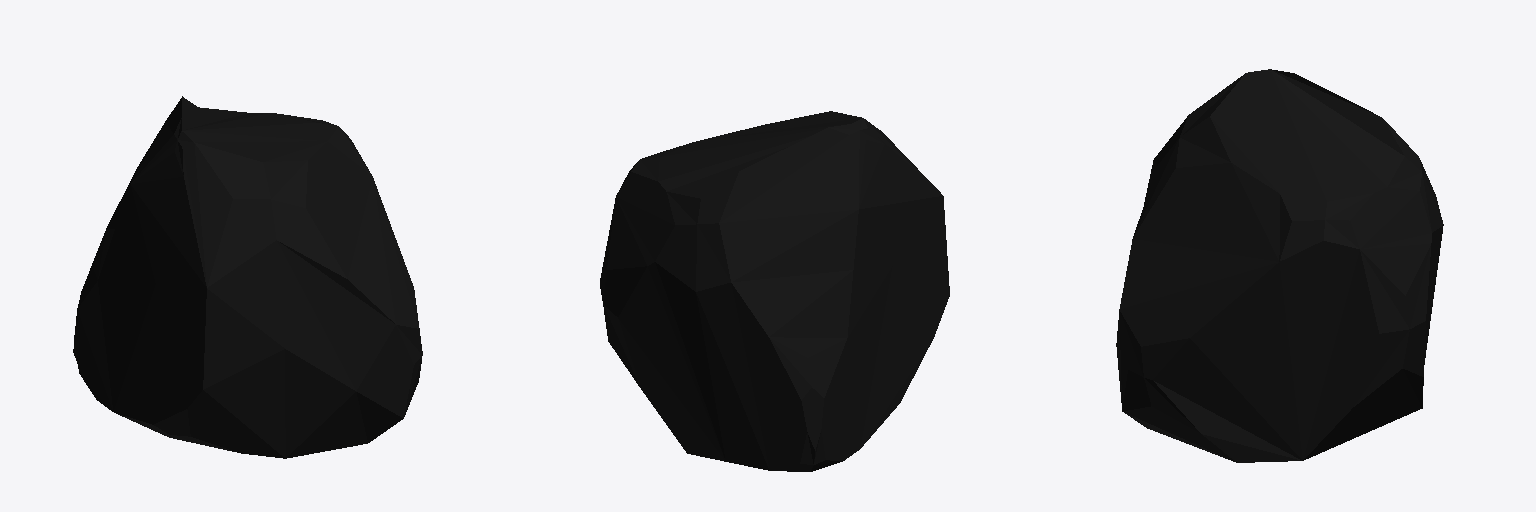
Rendered from Rock.obj.
3 renders of one model, left to right at view 1: azimuth 30°, elevation 25°; view 2: azimuth 150°, elevation 25°; view 3: azimuth 270°, elevation 25°, orthographic.
Visible parts, largest first — view 1: Rock_Cube; view 2: Rock_Cube; view 3: Rock_Cube.
Boxes of the visible parts, box(x1,y1,x2,y2) form: Rock_Cube: box(73, 96, 422, 458); Rock_Cube: box(600, 111, 949, 471); Rock_Cube: box(1116, 69, 1443, 462).
Bounding box in the file's own units: 0.8115 × 0.9791 × 0.9681.